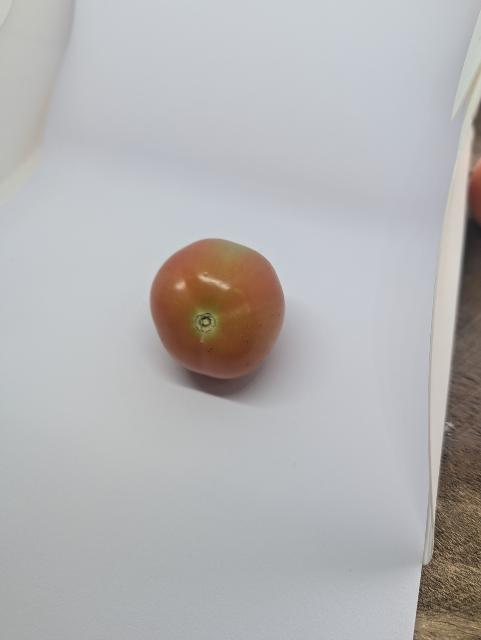turning: (144, 235, 291, 392)
